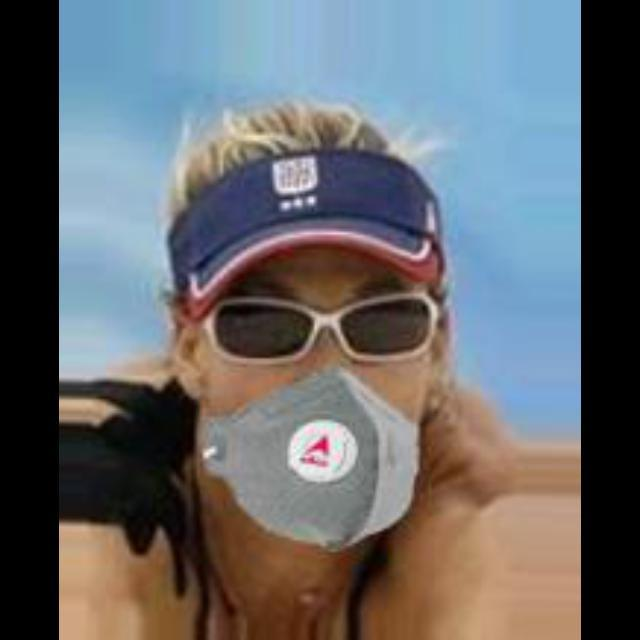suspicion: (152, 85, 480, 551)
